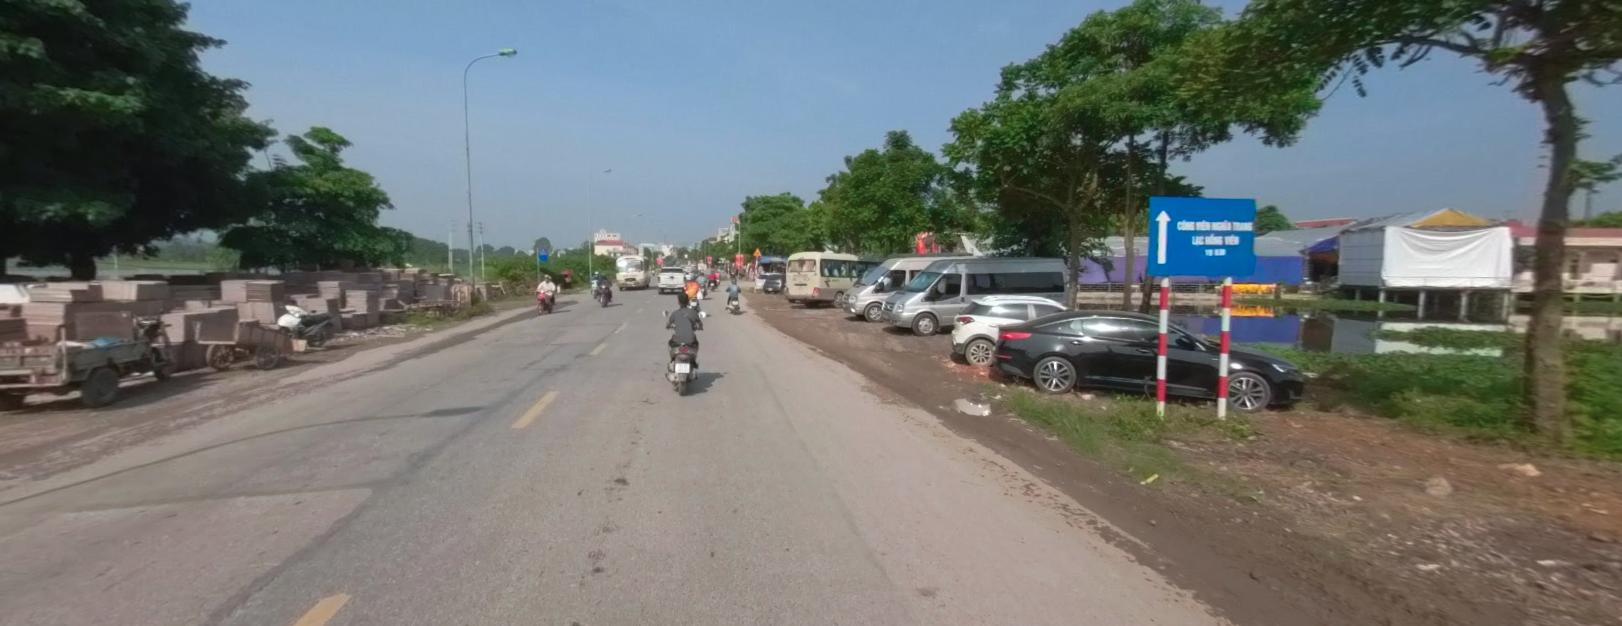Nguy hiem: (752, 246, 761, 254)
